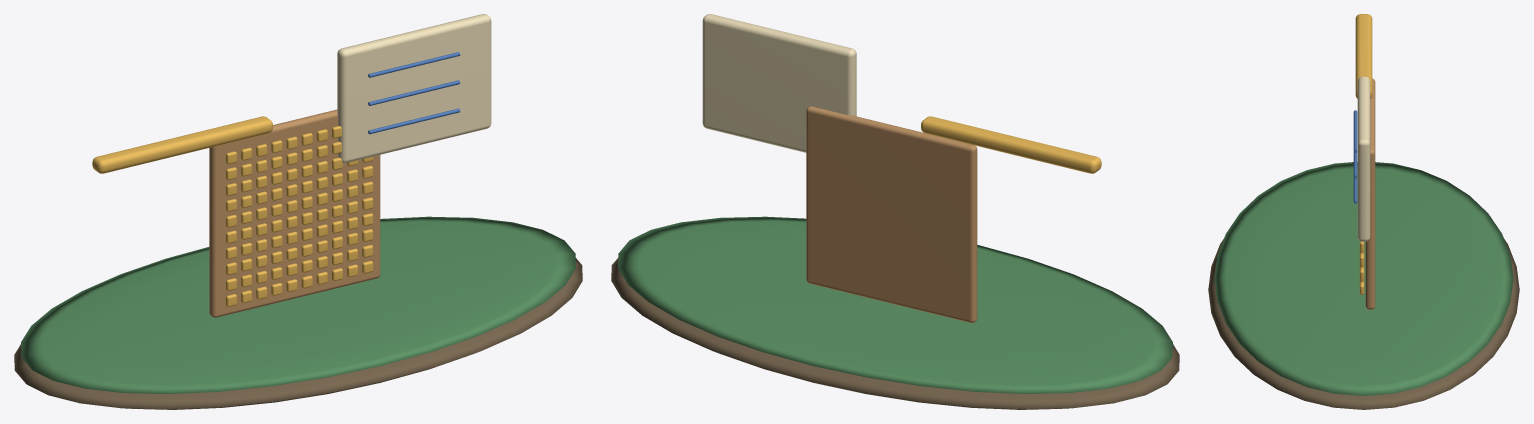
The model's file is complete-first-hundred-white-count.glb.
The picture shows the model from 3 angles, left to right: view 1: azimuth 30°, elevation 25°; view 2: azimuth 150°, elevation 25°; view 3: azimuth 270°, elevation 25°; orthographic projection. The views are drawn at different scales.
Visible parts, largest first — view 1: complete-first-hundred-white-count_surface_01, complete-first-hundred-white-count_surface_05, complete-first-hundred-white-count_surface_03, complete-first-hundred-white-count_surface_02, complete-first-hundred-white-count_surface_00, complete-first-hundred-white-count_surface_04; view 2: complete-first-hundred-white-count_surface_01, complete-first-hundred-white-count_surface_05, complete-first-hundred-white-count_surface_03, complete-first-hundred-white-count_surface_00, complete-first-hundred-white-count_surface_02; view 3: complete-first-hundred-white-count_surface_01, complete-first-hundred-white-count_surface_00, complete-first-hundred-white-count_surface_03, complete-first-hundred-white-count_surface_05, complete-first-hundred-white-count_surface_02, complete-first-hundred-white-count_surface_04.
Boxes of the visible parts, x1,y1,x2,y2 form: complete-first-hundred-white-count_surface_01: (21,216,575,393); complete-first-hundred-white-count_surface_05: (209,109,380,317); complete-first-hundred-white-count_surface_03: (337,14,491,163); complete-first-hundred-white-count_surface_02: (92,116,373,306); complete-first-hundred-white-count_surface_00: (14,258,582,409); complete-first-hundred-white-count_surface_04: (368,52,460,134); complete-first-hundred-white-count_surface_01: (618,216,1172,393); complete-first-hundred-white-count_surface_05: (806,106,977,322); complete-first-hundred-white-count_surface_03: (702,14,856,152); complete-first-hundred-white-count_surface_00: (611,258,1179,409); complete-first-hundred-white-count_surface_02: (921,116,1101,173); complete-first-hundred-white-count_surface_01: (1214,162,1513,395); complete-first-hundred-white-count_surface_00: (1208,239,1519,409); complete-first-hundred-white-count_surface_03: (1357,76,1370,241); complete-first-hundred-white-count_surface_05: (1365,78,1375,309); complete-first-hundred-white-count_surface_02: (1355,14,1372,294); complete-first-hundred-white-count_surface_04: (1353,110,1357,203).
Size of the model in its own units: 4.56 by 2.19 by 2.5.
